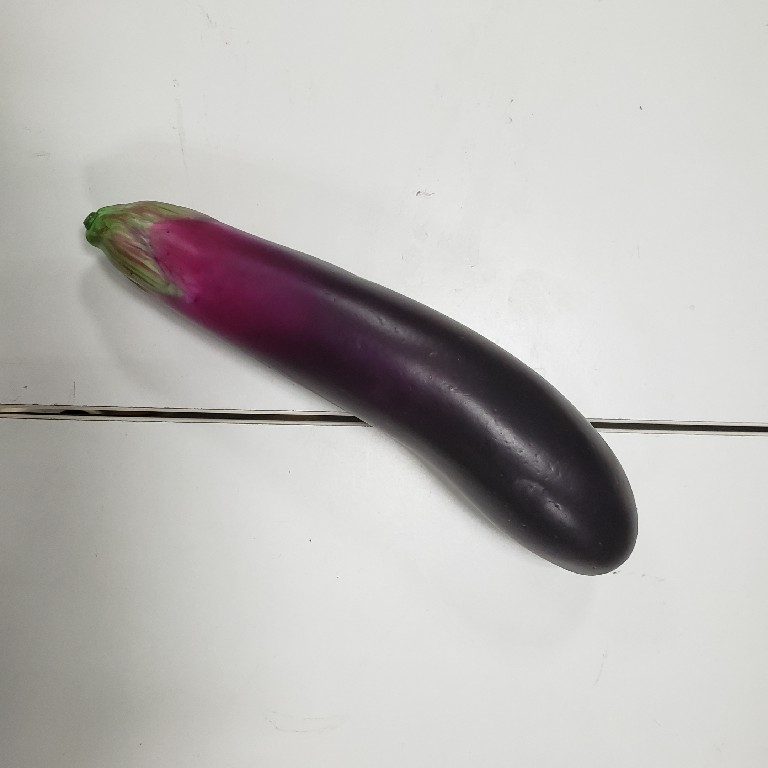fruit_eggplant: (75, 196, 645, 584)
